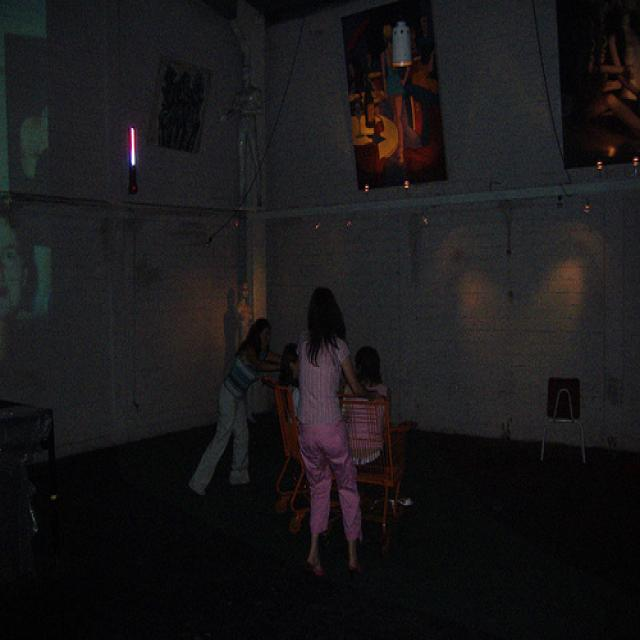People: (293, 279, 370, 581), (197, 301, 282, 522), (279, 334, 309, 407)
Table: (0, 388, 67, 539)
chair: (338, 386, 409, 543), (259, 364, 309, 534), (531, 362, 600, 465)
